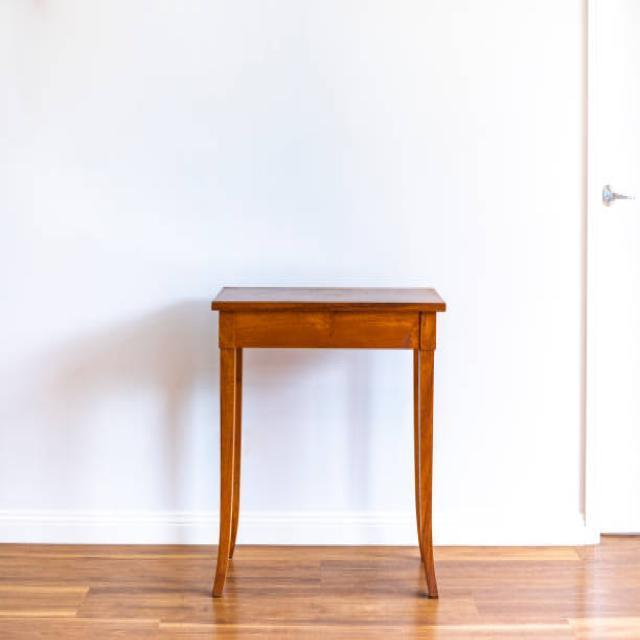table: (209, 284, 446, 600)
